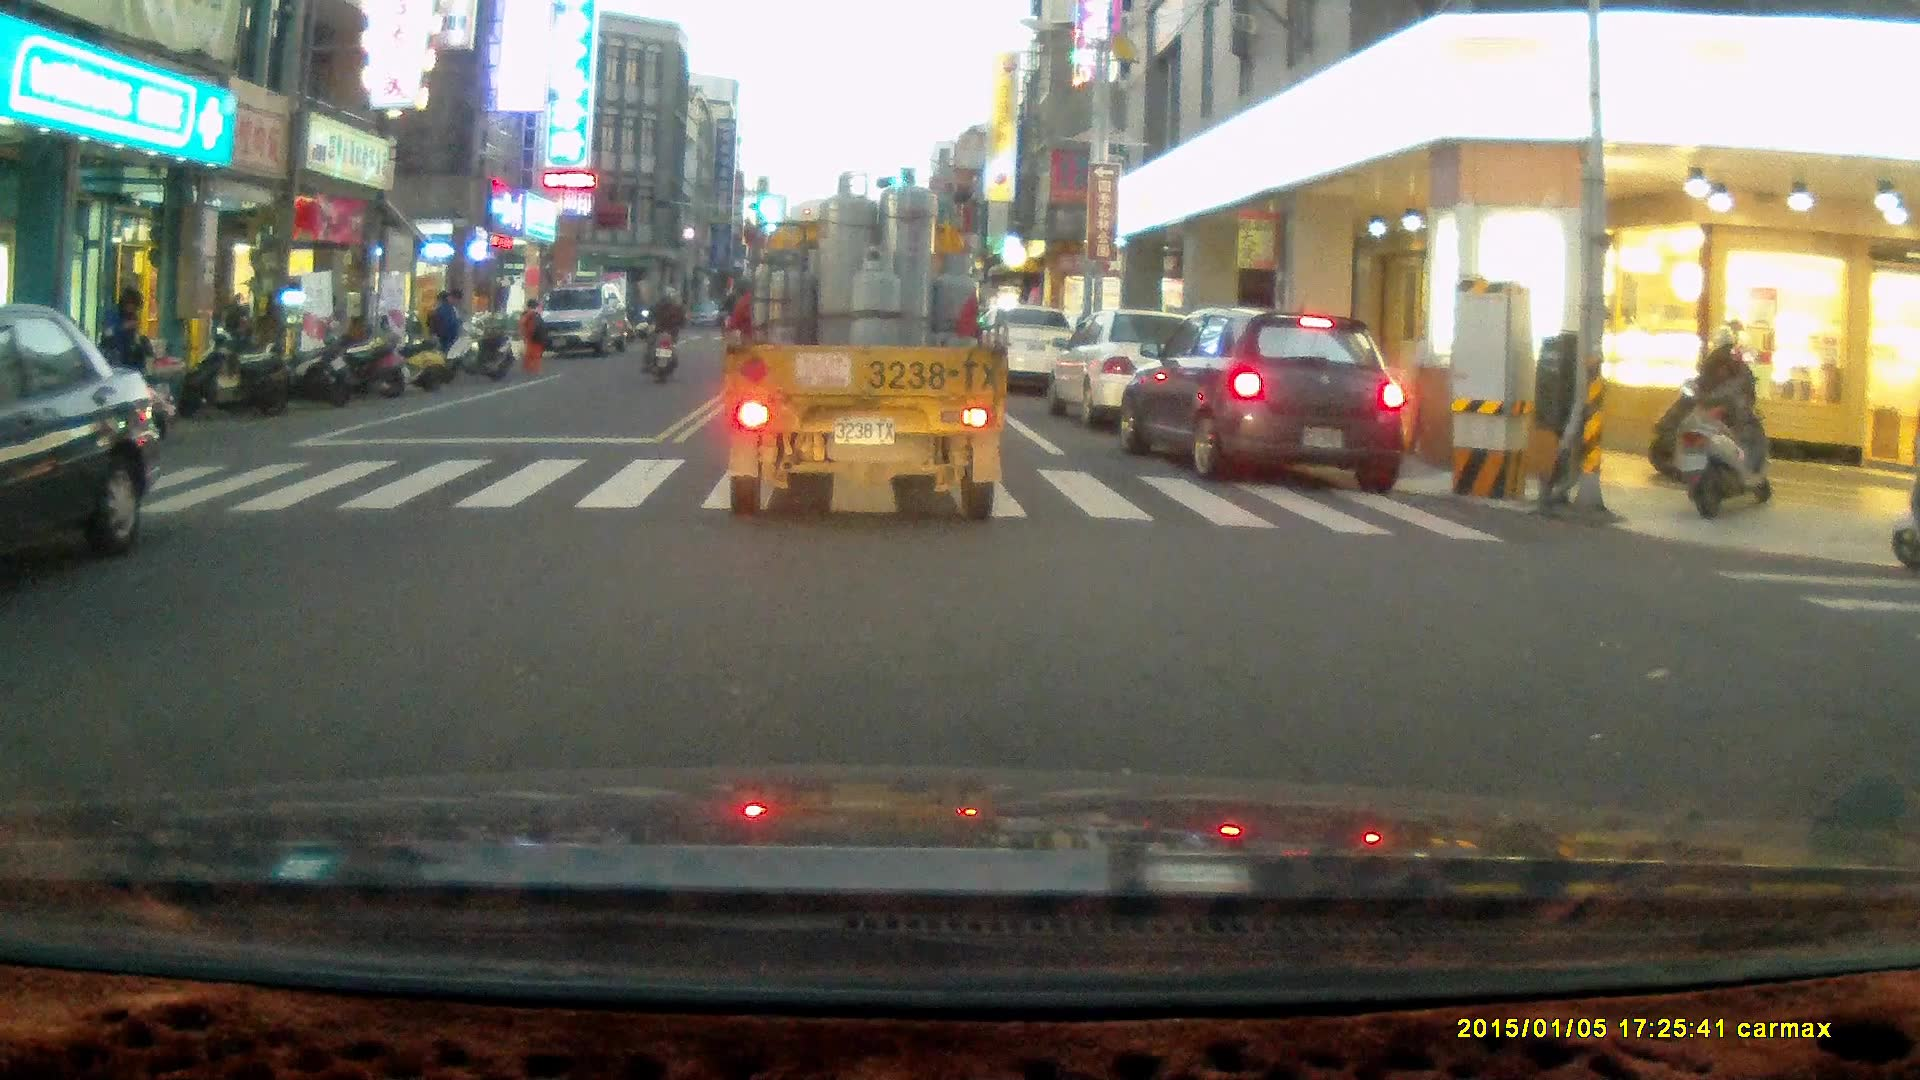pedestrian: (97, 285, 157, 408), (429, 284, 465, 373), (517, 295, 551, 371), (225, 290, 255, 379)
rider: (1647, 318, 1766, 486), (638, 279, 686, 380)
vehicle: (726, 164, 1009, 523), (1116, 307, 1406, 492), (1, 305, 166, 565), (1055, 306, 1230, 427), (976, 307, 1083, 398), (531, 284, 631, 358)
